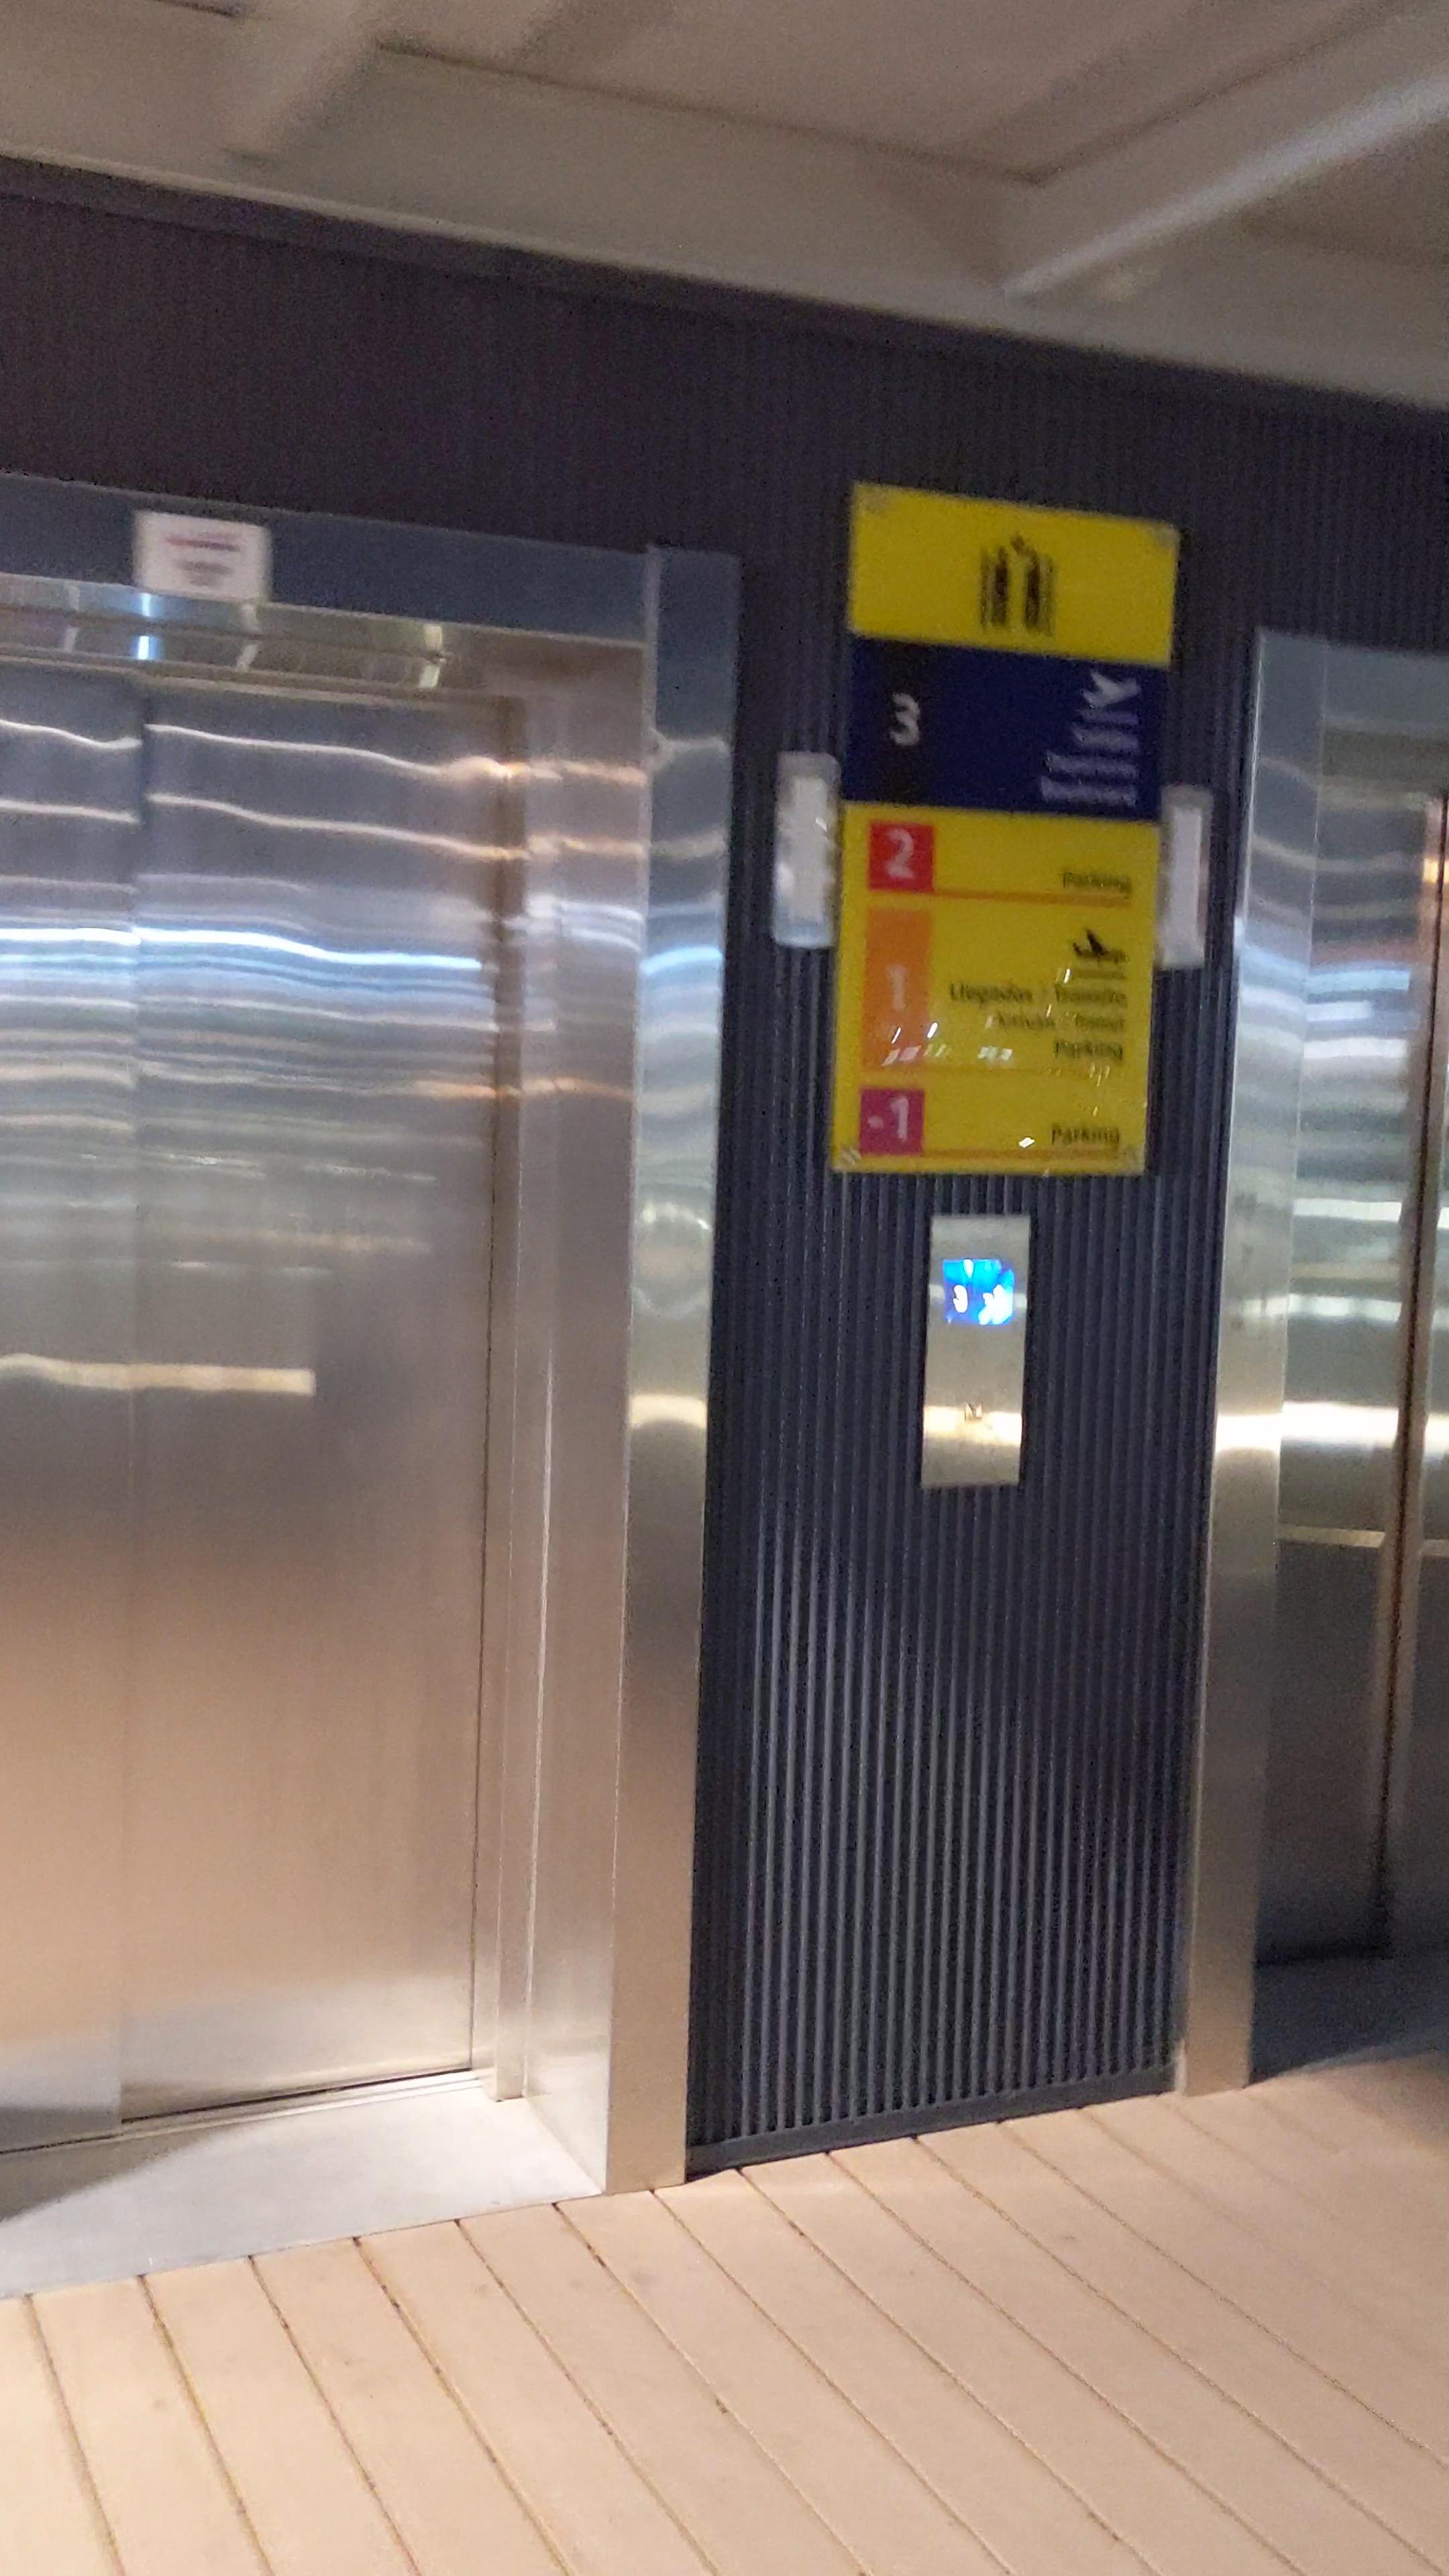airplane symbol: (1065, 920, 1132, 968), (1079, 672, 1139, 709)
